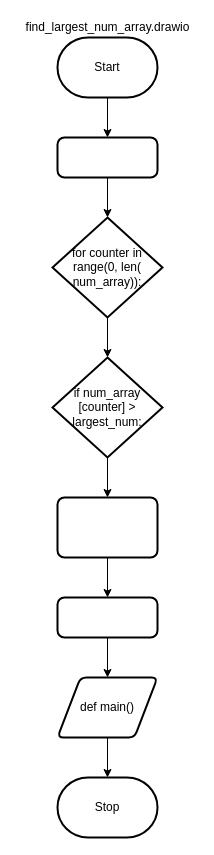
Image size: 214x855. Some labels were removed from this diagram. Each missing label, with the box of its shape:
largest_num = 0: (56, 136, 158, 178)
largest_num = num_array [counter]: (56, 496, 158, 558)
return largest_num: (56, 596, 158, 638)
